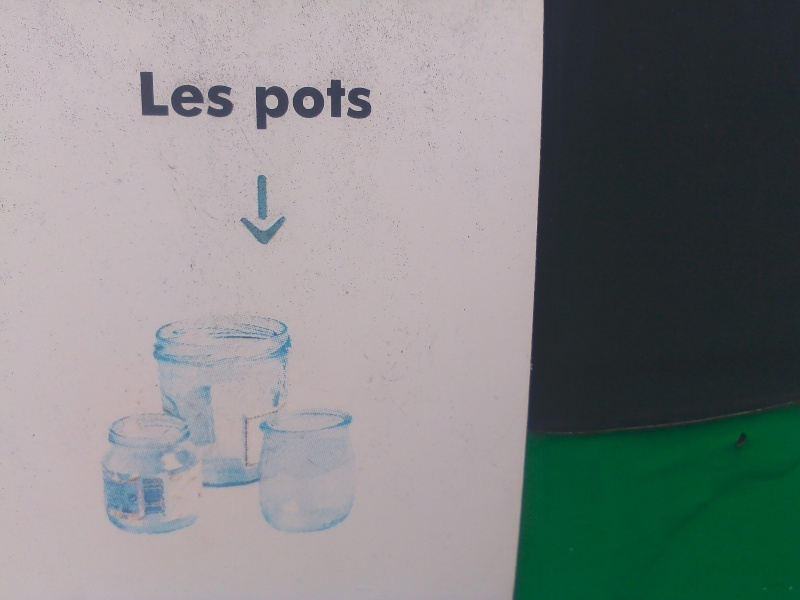text: (257, 77, 272, 131), (273, 77, 288, 131), (289, 77, 304, 131), (305, 77, 320, 131), (321, 77, 336, 131), (337, 77, 352, 131), (353, 77, 368, 131), (145, 71, 160, 119), (161, 71, 176, 119), (177, 71, 192, 119), (193, 71, 208, 119), (209, 71, 224, 119), (225, 71, 234, 119), (139, 71, 144, 119), (369, 77, 373, 131)
